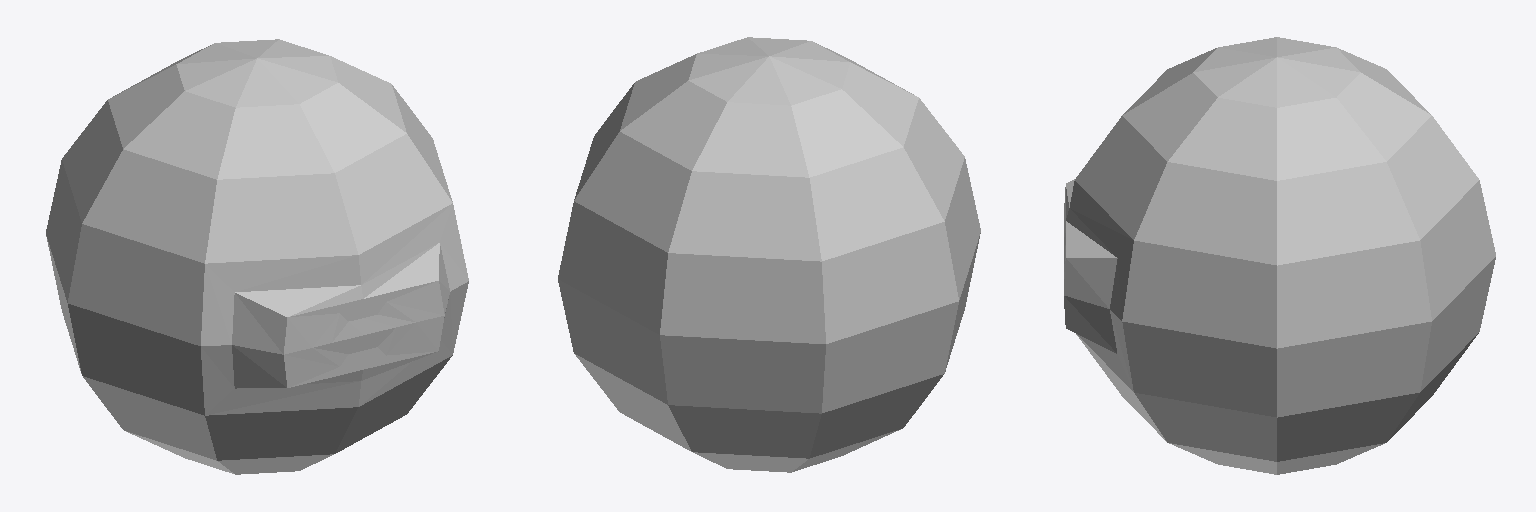
Rendered from anim0.obj.
The picture shows the model from 3 angles: view 1: azimuth 30°, elevation 25°; view 2: azimuth 150°, elevation 25°; view 3: azimuth 270°, elevation 25°; orthographic projection.
Visible parts, largest first — view 1: Sphere; view 2: Sphere; view 3: Sphere.
Part boxes in pixels (bbox=[...]): Sphere: bbox=[46, 39, 468, 474]; Sphere: bbox=[558, 37, 980, 472]; Sphere: bbox=[1064, 37, 1495, 474].
Size of the model in its own units: 2 by 2 by 1.97.